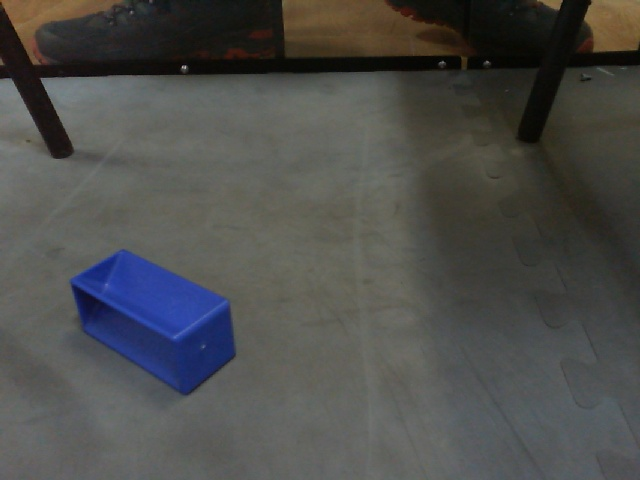BlueSample: (69, 245, 240, 400)
